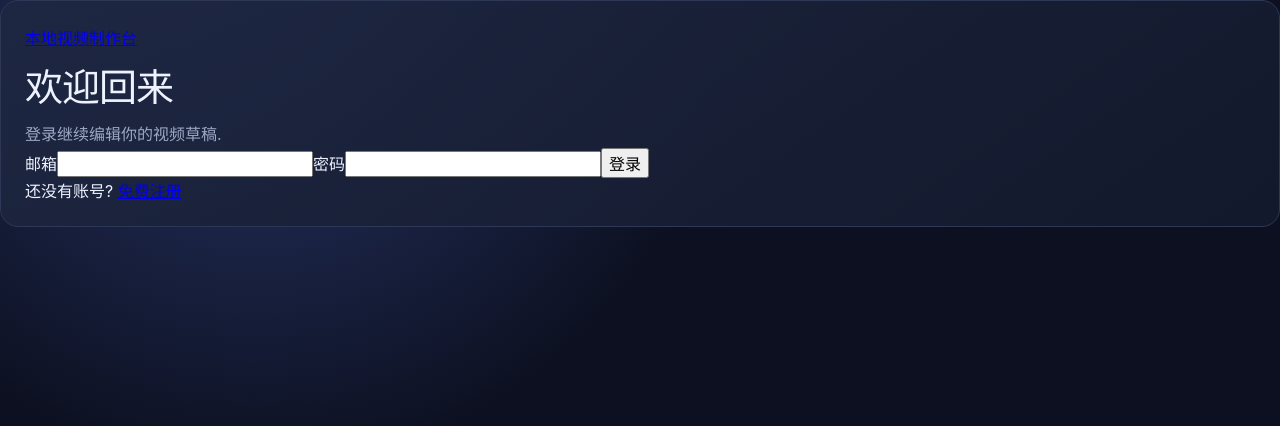
Test: LoginPage R8 (rev38) › HTTP 500 with non-JSON body -> generic HTTP <status> error
Type "a@b.c" into the field labelled "邮箱". click: (185, 164)
box: x1=57 y1=151 x2=313 y2=177
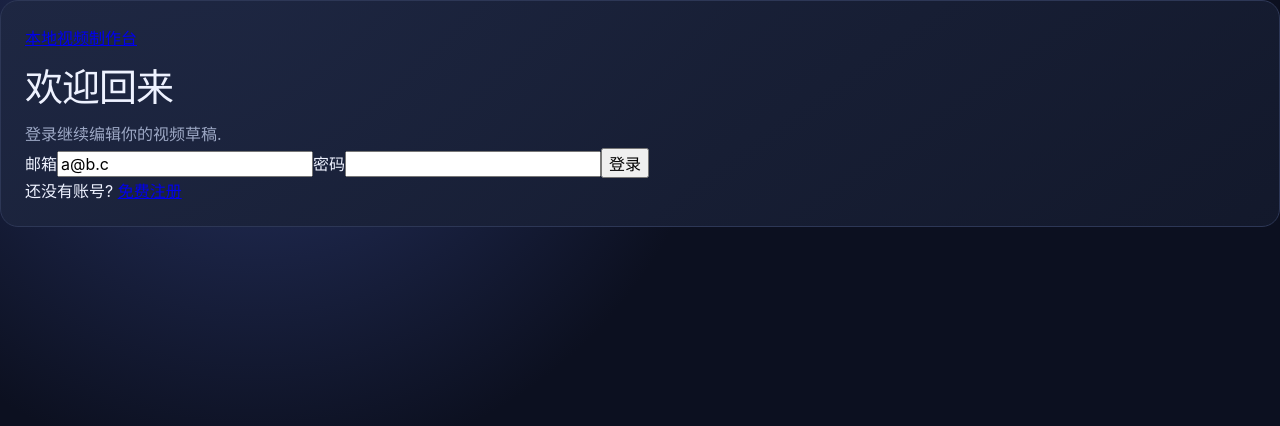
Type "pw" into the password field labelled "密码". click: (473, 164)
box: x1=345 y1=151 x2=601 y2=177
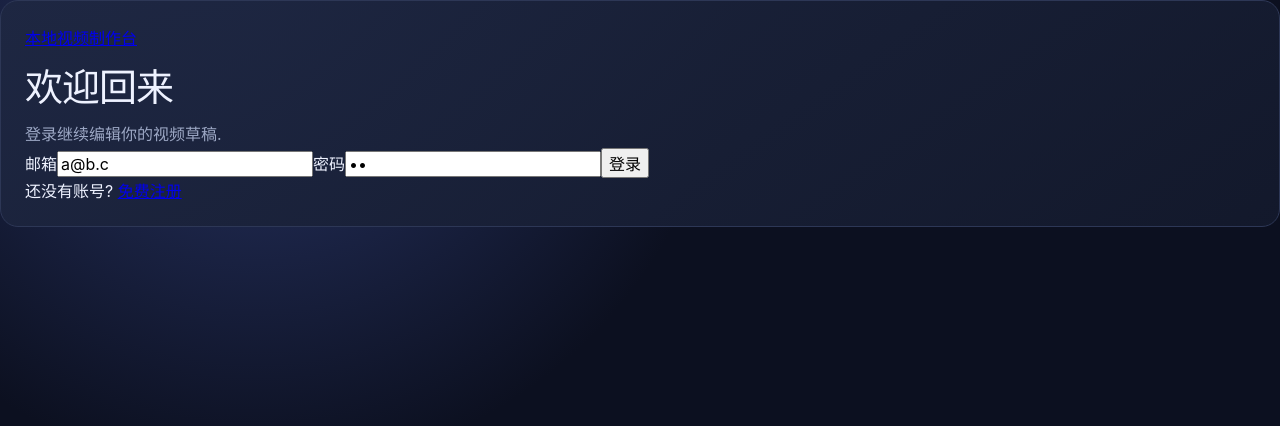
Submit the form, box x1=25 y1=148 x2=649 y2=178
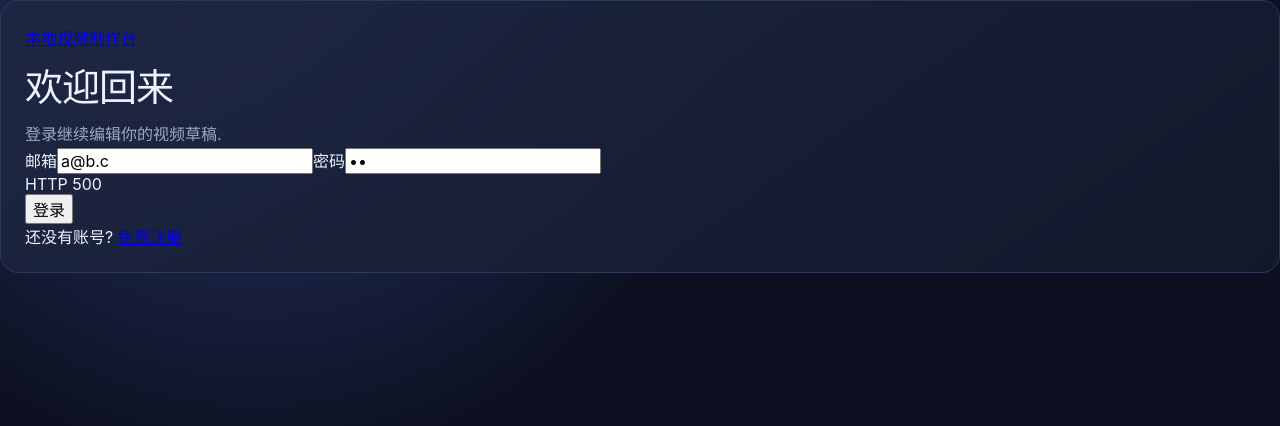
Expected: the text with class "err" reads "HTTP 500", x1=25 y1=174 x2=102 y2=194
